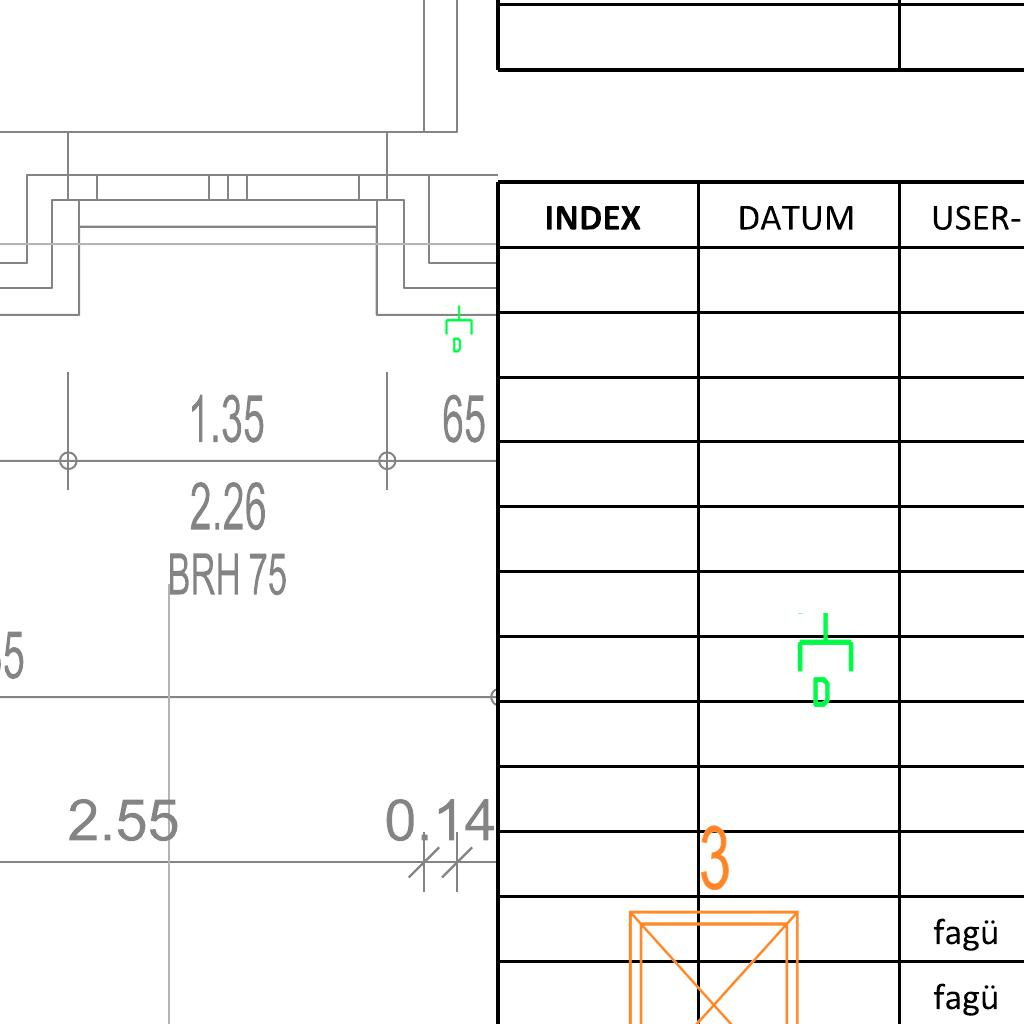Datenanschluss_einfach: (793, 610, 862, 710), (443, 304, 477, 354)
Einbaudownlights_LED_Konferenzraeume: (606, 814, 814, 1024)
